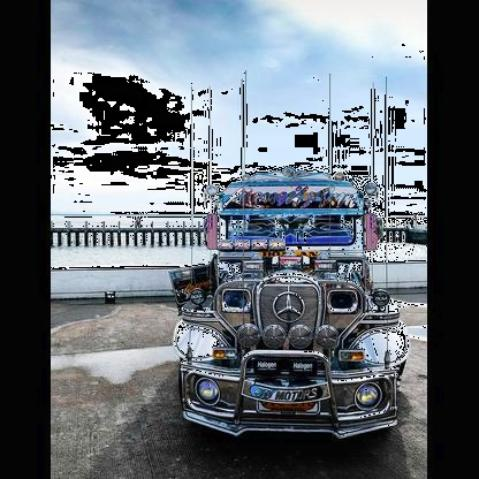jeepney: (164, 168, 413, 450)
